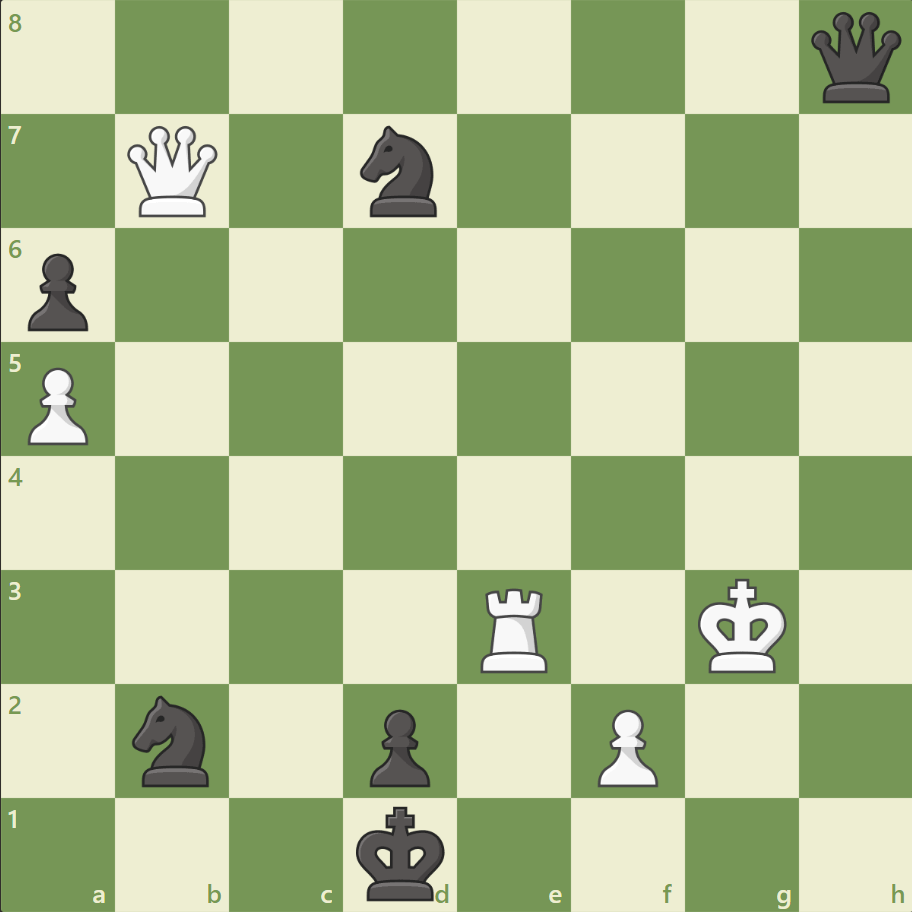K: (692, 571, 792, 679)
P: (20, 359, 95, 450), (588, 700, 662, 791)
Q: (124, 122, 223, 222)
R: (473, 579, 556, 676)
k: (351, 798, 451, 906)
n: (124, 688, 222, 791), (351, 121, 449, 223)
p: (20, 246, 95, 337), (361, 700, 435, 791)
q: (805, 9, 904, 108)
